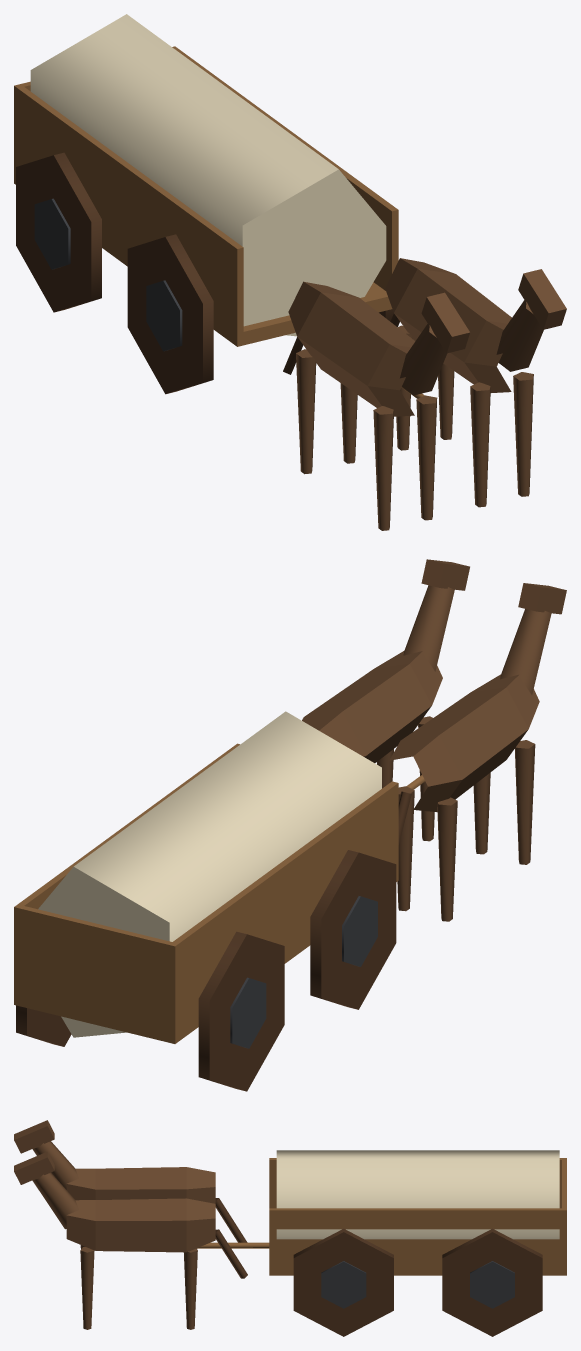
The model's file is veh_ground_wagon_a03_lod1.glb.
3 renders of one model, top to bottom at view 1: azimuth 30°, elevation 25°; view 2: azimuth 150°, elevation 25°; view 3: azimuth 270°, elevation 25°, orthographic. The views are drawn at different scales.
Visible parts, largest first — view 1: body, animal_0, animal_1, wheel_2, wheel_0; view 2: body, animal_0, animal_1, wheel_0, wheel_2, wheel_1; view 3: body, animal_1, wheel_1, wheel_3, animal_0.
Part boxes in pixels (bbox=[...]): body: bbox=[14, 14, 424, 398]; animal_0: bbox=[283, 281, 470, 530]; animal_1: bbox=[385, 258, 566, 507]; wheel_2: bbox=[127, 234, 213, 394]; wheel_0: bbox=[16, 152, 101, 312]; body: bbox=[14, 711, 424, 1043]; animal_0: bbox=[389, 583, 566, 921]; animal_1: bbox=[302, 559, 469, 841]; wheel_0: bbox=[198, 931, 284, 1091]; wheel_2: bbox=[310, 850, 396, 1009]; wheel_1: bbox=[16, 1005, 71, 1046]; body: bbox=[197, 1150, 566, 1275]; animal_1: bbox=[14, 1151, 247, 1329]; wheel_1: bbox=[442, 1228, 542, 1336]; wheel_3: bbox=[293, 1228, 393, 1336]; animal_0: bbox=[14, 1120, 247, 1242].
Bounding box in the file's own units: 1.84 × 2.23 × 6.69.
